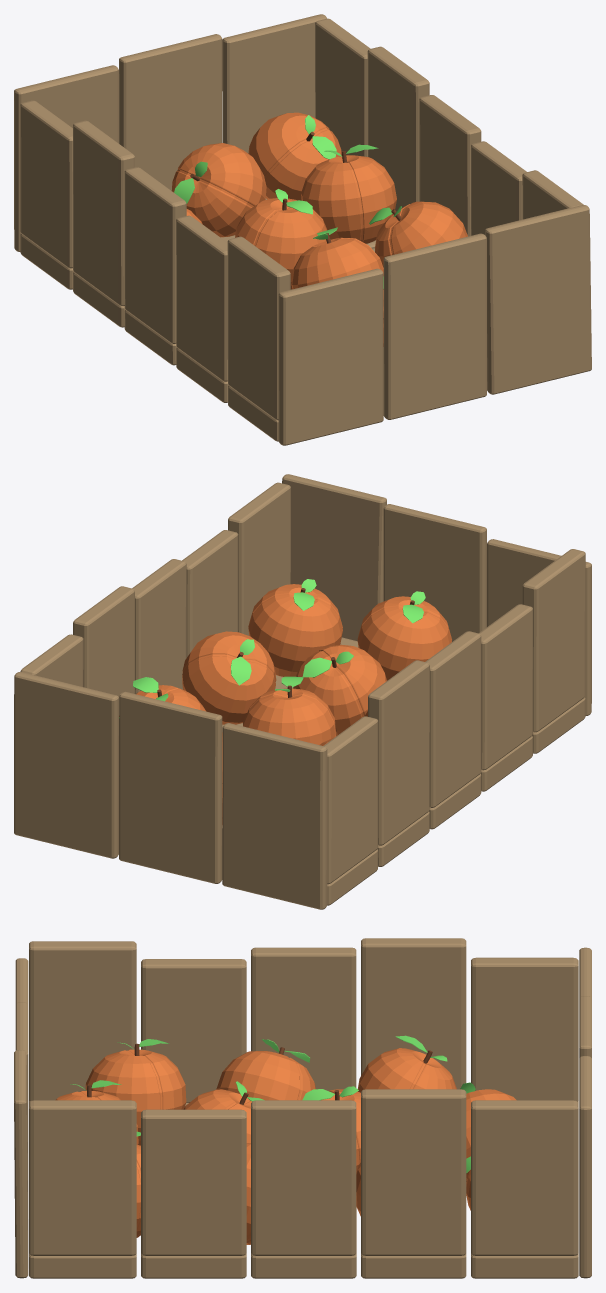
File: Peach.fbx
The picture shows the model from 3 angles, top to bottom: view 1: azimuth 30°, elevation 25°; view 2: azimuth 150°, elevation 25°; view 3: azimuth 270°, elevation 25°; orthographic projection. The views are drawn at different scales.
Visible parts, largest first — view 1: Icosphere.025; view 2: Icosphere.025; view 3: Icosphere.025.
Boxes of the visible parts, left/top/right/bottom form: Icosphere.025: left=14, top=14, right=591, bottom=445; Icosphere.025: left=14, top=474, right=591, bottom=909; Icosphere.025: left=14, top=938, right=591, bottom=1278.
Bounding box in the file's own units: 159 × 84.48 × 241.
